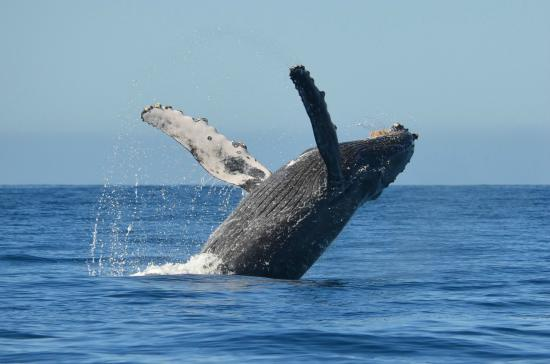humpback: (198, 121, 421, 279)
